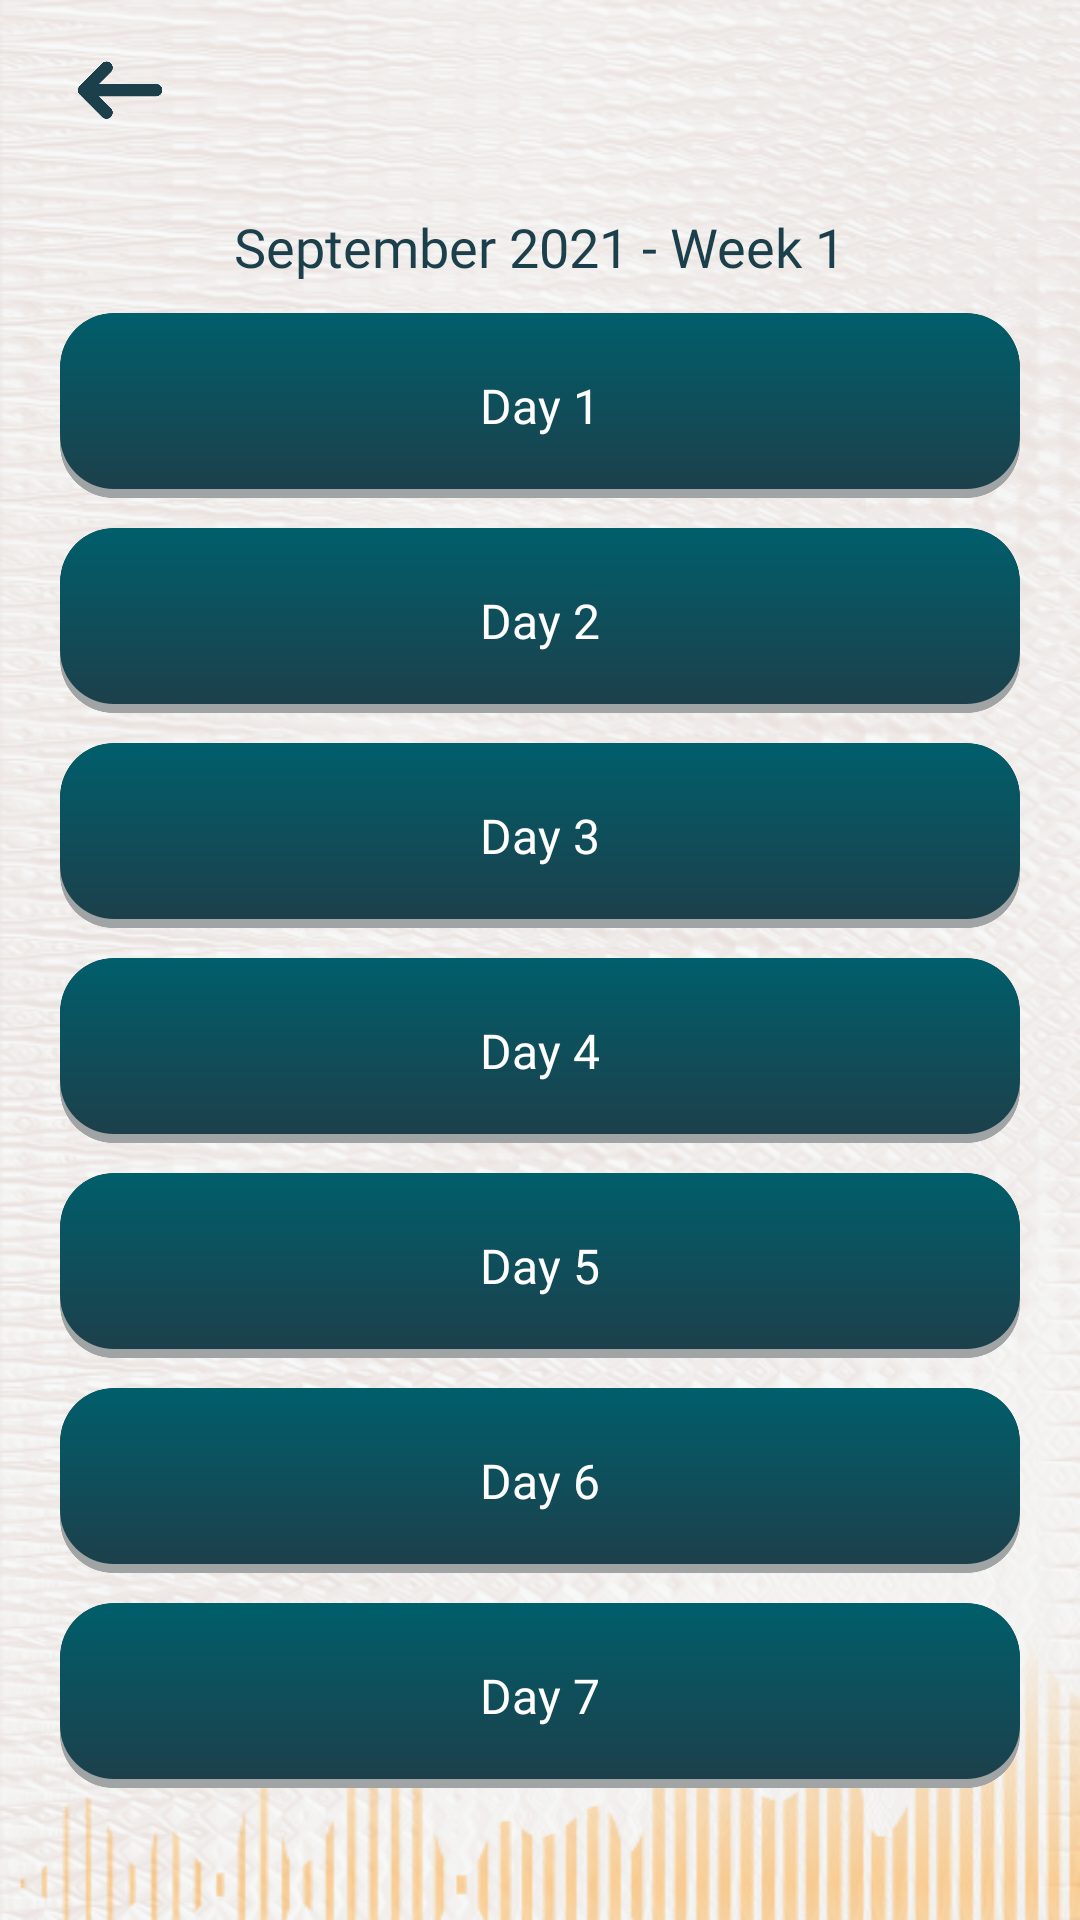

Where icons sit on this 1080x1920 app screen, as (x1, y1, x2, y2):
back: (78, 61, 162, 119)
